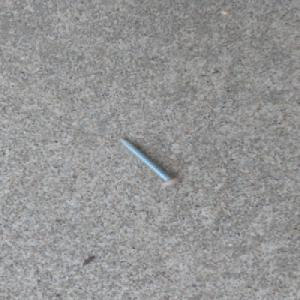Screw: (117, 136, 183, 187)
